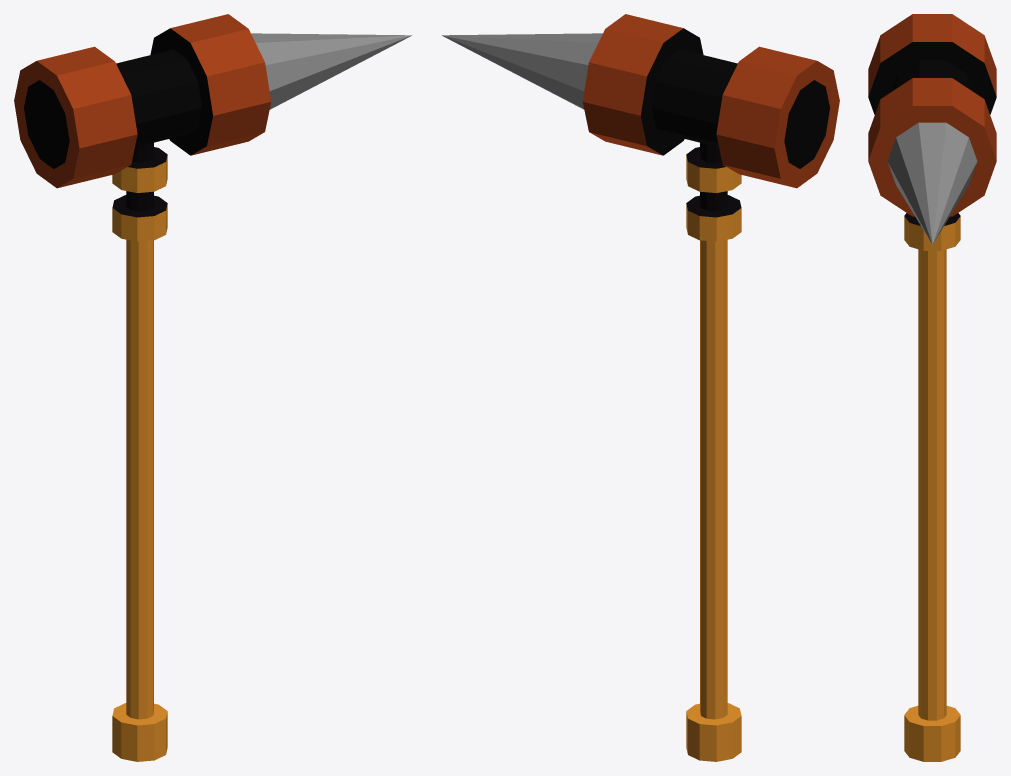
Rendered from Sword_Type3.fbx.
3 renders of one model, left to right at view 1: azimuth 30°, elevation 25°; view 2: azimuth 150°, elevation 25°; view 3: azimuth 270°, elevation 25°, orthographic.
Visible parts, largest first — view 1: Cylinder.001, Cylinder; view 2: Cylinder.001, Cylinder; view 3: Cylinder.001, Cylinder.
Part boxes in pixels (x1,y1,x2,y2): Cylinder.001: (14, 14, 411, 188); Cylinder: (112, 142, 167, 761); Cylinder.001: (442, 14, 839, 188); Cylinder: (686, 142, 741, 761); Cylinder.001: (868, 14, 996, 244); Cylinder: (904, 213, 960, 761).
Bounding box in the file's own units: 315 × 579 × 97.51.
